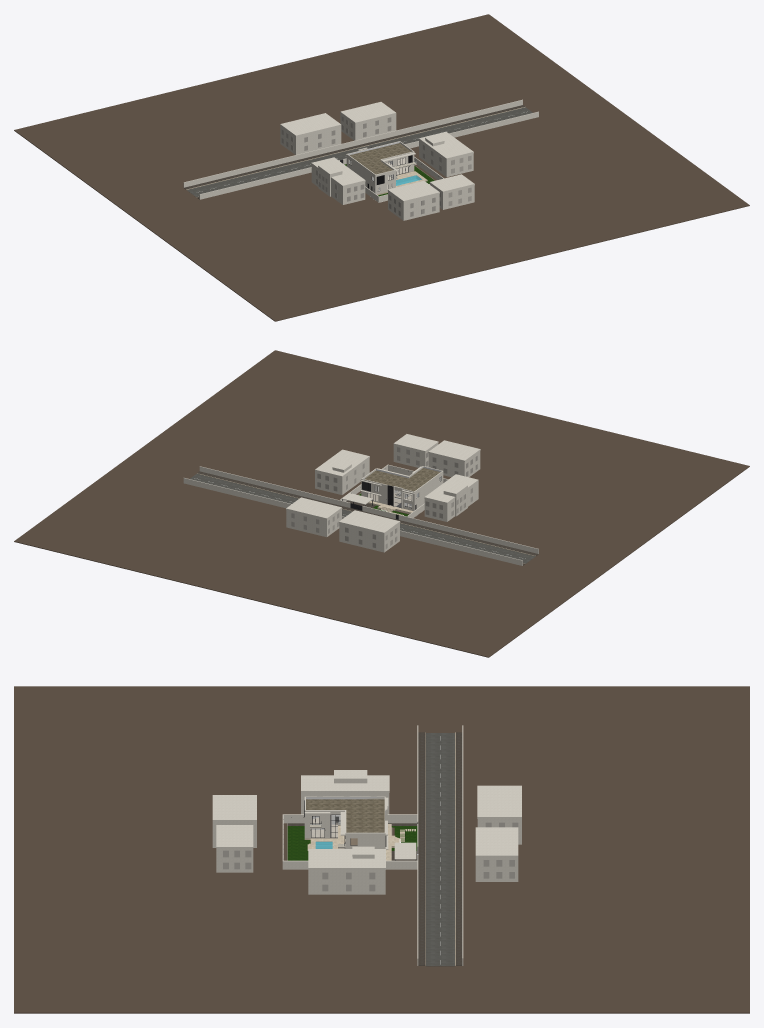
File: arch.glb
3 renders of one model, top to bottom at view 1: azimuth 30°, elevation 25°; view 2: azimuth 150°, elevation 25°; view 3: azimuth 270°, elevation 25°, orthographic. The views are drawn at different scales.
Parts seen in each view (by area): view 1: SITE_ground, SITE_neighbors, SITE_neighbor_walls, SITE_road, SITE_neighbor_windows, EXT_walls, SITE_sidewalk2, ROOF_slab; view 2: SITE_ground, SITE_neighbors, SITE_neighbor_walls, SITE_road, SITE_neighbor_windows, EXT_walls, SITE_sidewalk, ROOF_slab, SITE_walls; view 3: SITE_ground, SITE_neighbors, SITE_road, SITE_sidewalk, SITE_sidewalk2, ROOF_slab, EXT_walls, SITE_lawn, SITE_walls, SITE_neighbor_windows, SITE_neighbor_walls.
Boxes of the visible parts, bbox=[...] form: SITE_ground: bbox=[14, 14, 749, 321]; SITE_neighbors: bbox=[280, 102, 474, 220]; SITE_neighbor_walls: bbox=[183, 99, 538, 199]; SITE_road: bbox=[187, 107, 532, 196]; SITE_neighbor_windows: bbox=[281, 116, 471, 216]; EXT_walls: bbox=[346, 141, 414, 194]; SITE_sidewalk2: bbox=[184, 105, 524, 189]; ROOF_slab: bbox=[350, 143, 411, 174]; SITE_ground: bbox=[14, 350, 749, 657]; SITE_neighbors: bbox=[286, 434, 480, 552]; SITE_neighbor_walls: bbox=[183, 466, 538, 565]; SITE_road: bbox=[190, 474, 535, 563]; SITE_neighbor_windows: bbox=[291, 447, 477, 548]; EXT_walls: bbox=[361, 466, 443, 511]; SITE_sidewalk: bbox=[197, 471, 538, 555]; ROOF_slab: bbox=[364, 468, 440, 491]; SITE_walls: bbox=[339, 465, 447, 521]; SITE_ground: bbox=[14, 686, 749, 1013]; SITE_neighbors: bbox=[212, 770, 521, 894]; SITE_road: bbox=[426, 733, 454, 966]; SITE_sidewalk: bbox=[418, 732, 425, 965]; SITE_sidewalk2: bbox=[455, 732, 462, 965]; ROOF_slab: bbox=[306, 799, 384, 832]; EXT_walls: bbox=[304, 797, 385, 848]; SITE_lawn: bbox=[287, 826, 417, 860]; SITE_walls: bbox=[282, 815, 418, 869]; SITE_neighbor_windows: bbox=[223, 796, 518, 891]; SITE_neighbor_walls: bbox=[417, 725, 463, 965].
Bounding box in the file's own units: 210 × 10.7 × 200.
55 materials, 22 textured.
